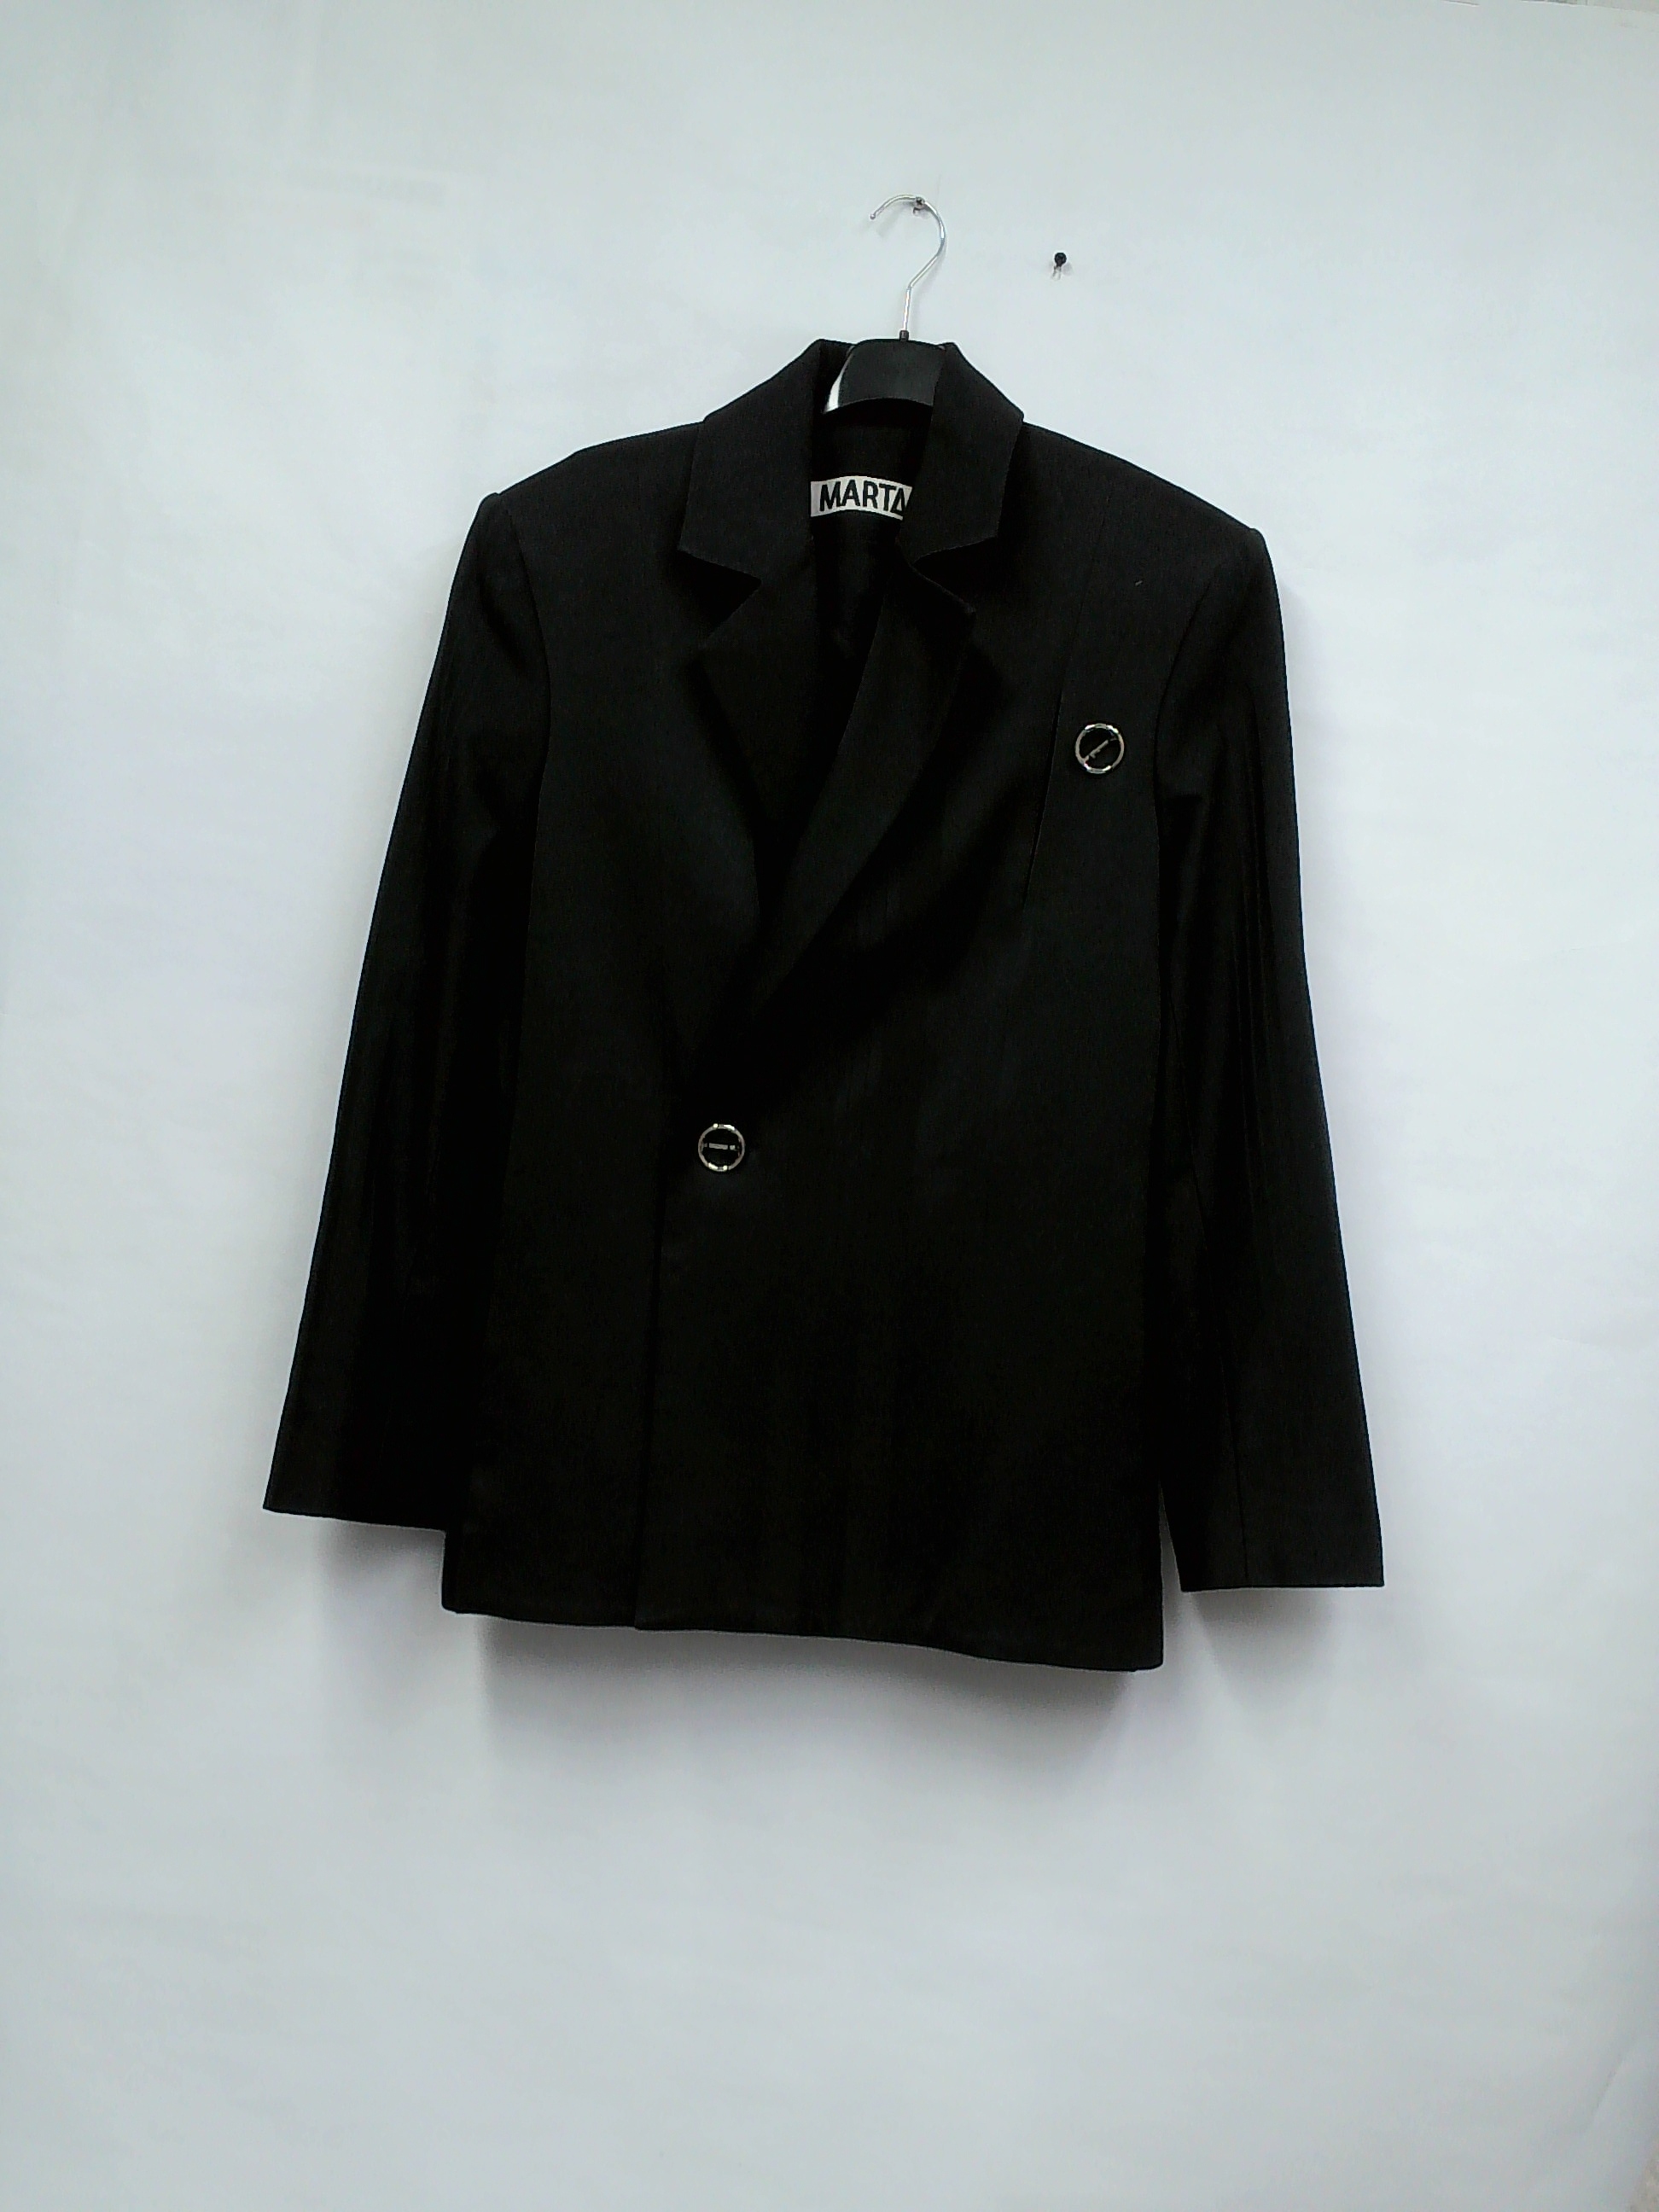bad_fabric: (451, 1446, 552, 1531)
